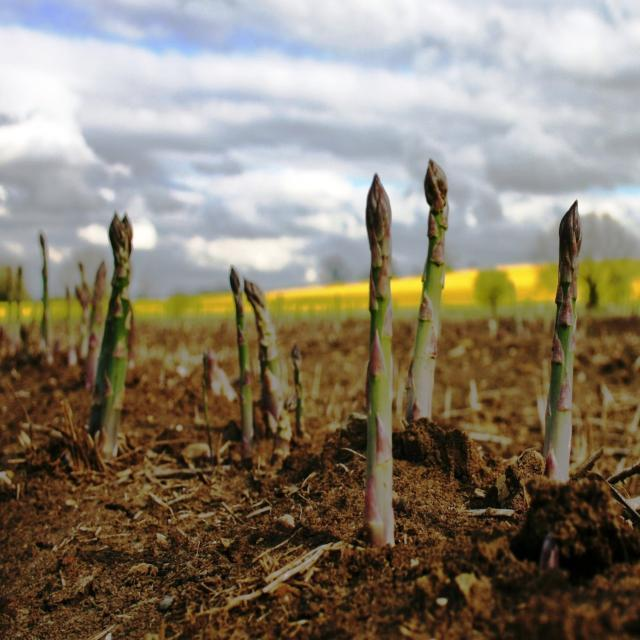aspargus: (361, 175, 395, 551), (88, 215, 133, 458), (545, 202, 582, 486), (410, 161, 448, 421), (242, 282, 291, 434)
